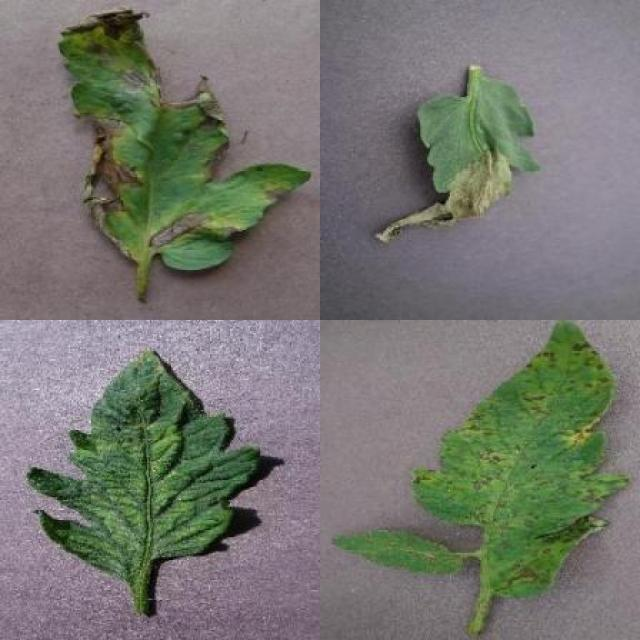Early Blight: (58, 6, 313, 276)
Late Blight: (374, 80, 540, 247)
Mosaic Virus: (24, 348, 259, 582)
Septoria: (414, 322, 632, 602)
